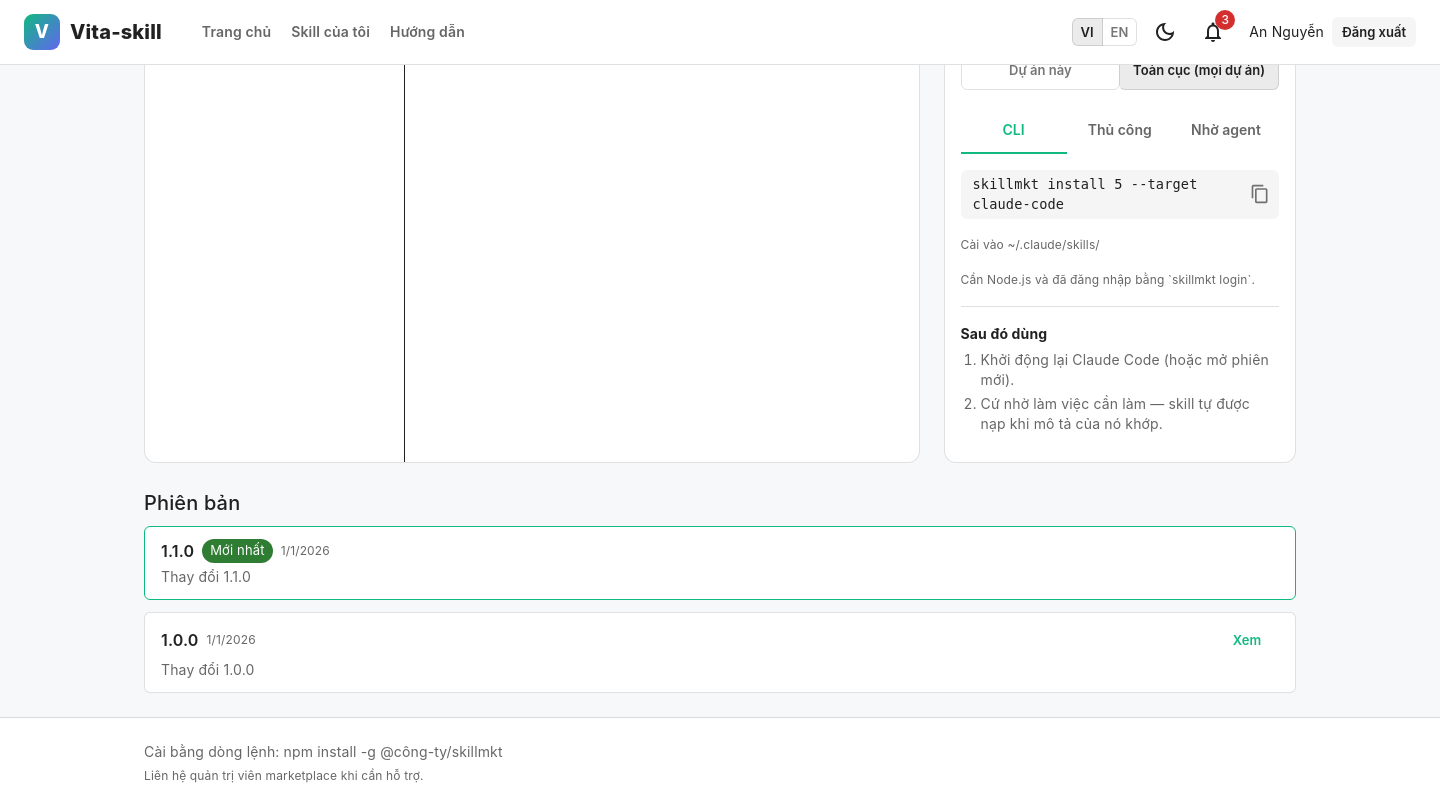
Test case: SkillDetailPage › xem bản cũ thì lệnh cài có --version
(page scrolled)
Click the button "Xem".
click(1247, 640)  # box [1215,625,1279,656]
(page scrolled)
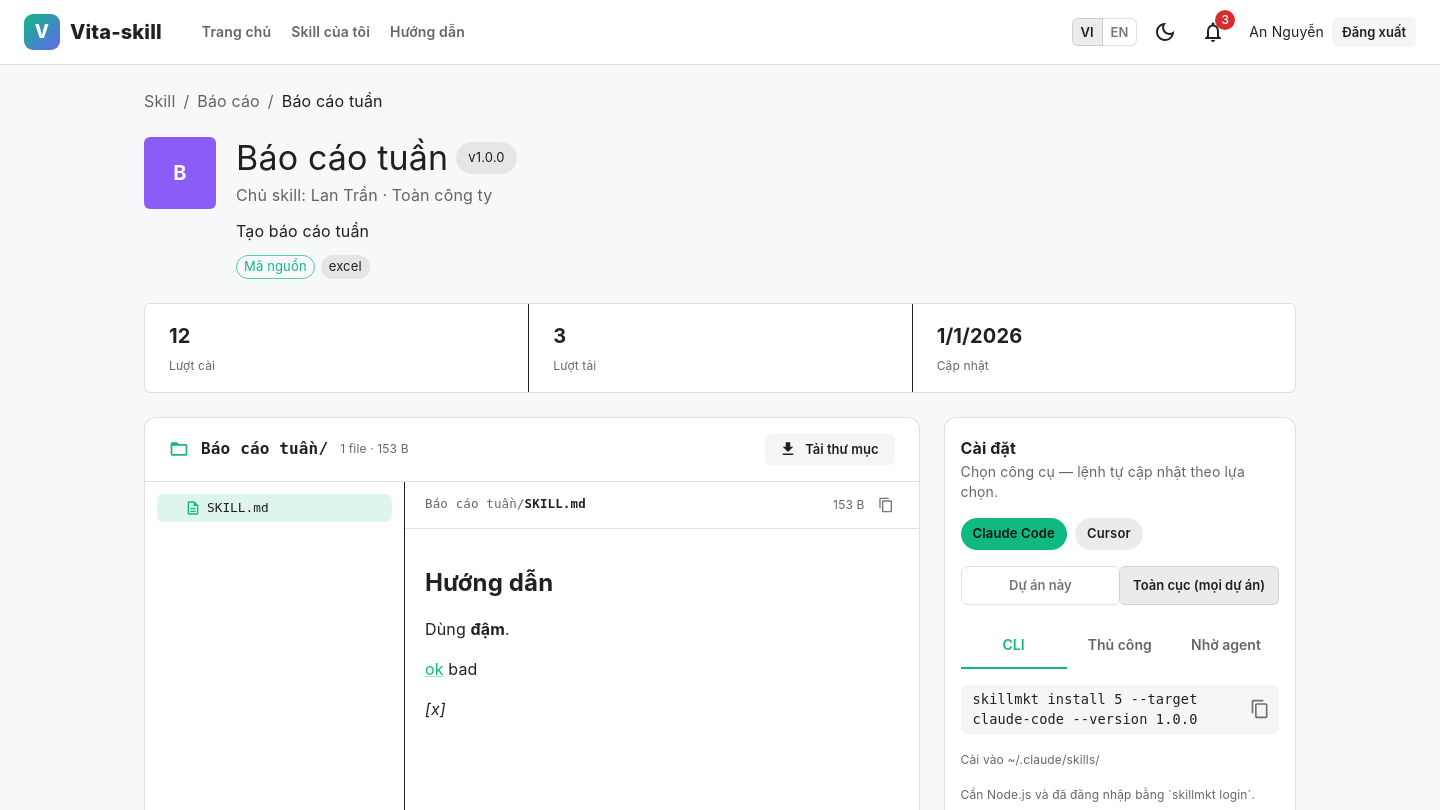
Now the text with test id "install-command" shows "--version 1.0.0", box [972,691,1198,727]
